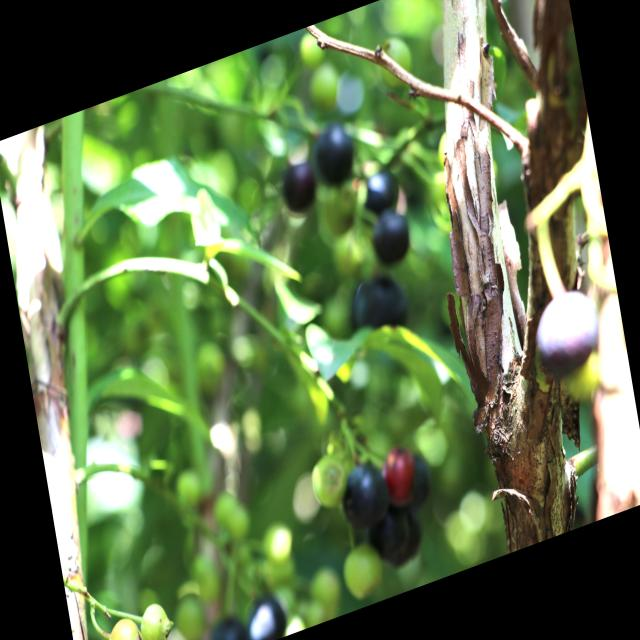blueberry: (529, 282, 606, 384), (348, 262, 412, 344), (338, 454, 393, 531), (366, 499, 420, 573), (311, 118, 360, 188), (366, 204, 413, 270), (242, 580, 292, 640), (277, 155, 321, 220), (357, 164, 404, 220), (203, 606, 248, 640)
blueberry-halfripe: (382, 440, 419, 498)
blueberry-unripe: (308, 444, 354, 512), (138, 597, 177, 640), (104, 610, 150, 640)
